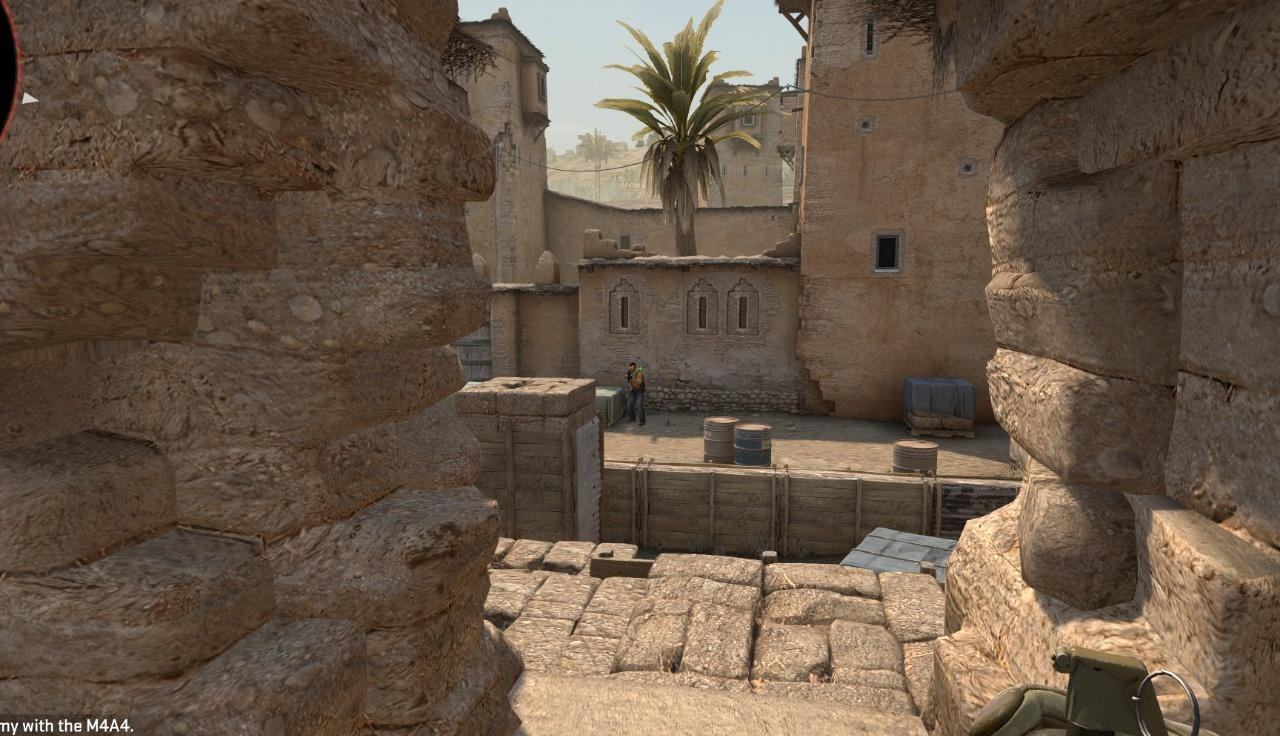tt: (625, 362, 644, 426)
tthead: (629, 362, 637, 373)
